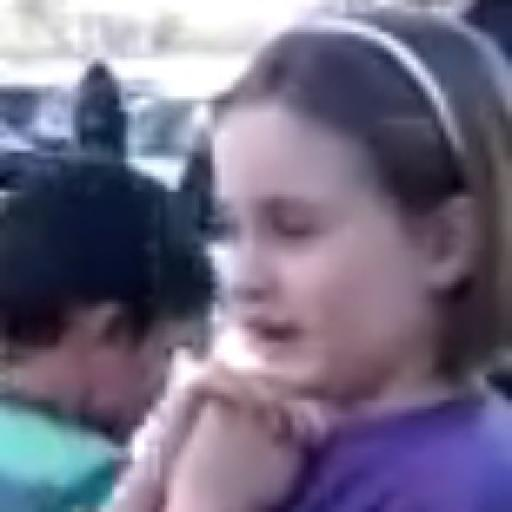Autism: (192, 62, 512, 480)
